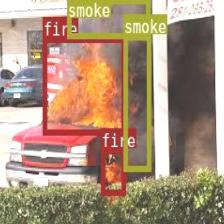fire: (42, 36, 124, 134), (101, 148, 125, 194)
smoke: (123, 34, 150, 170), (66, 0, 149, 37)
